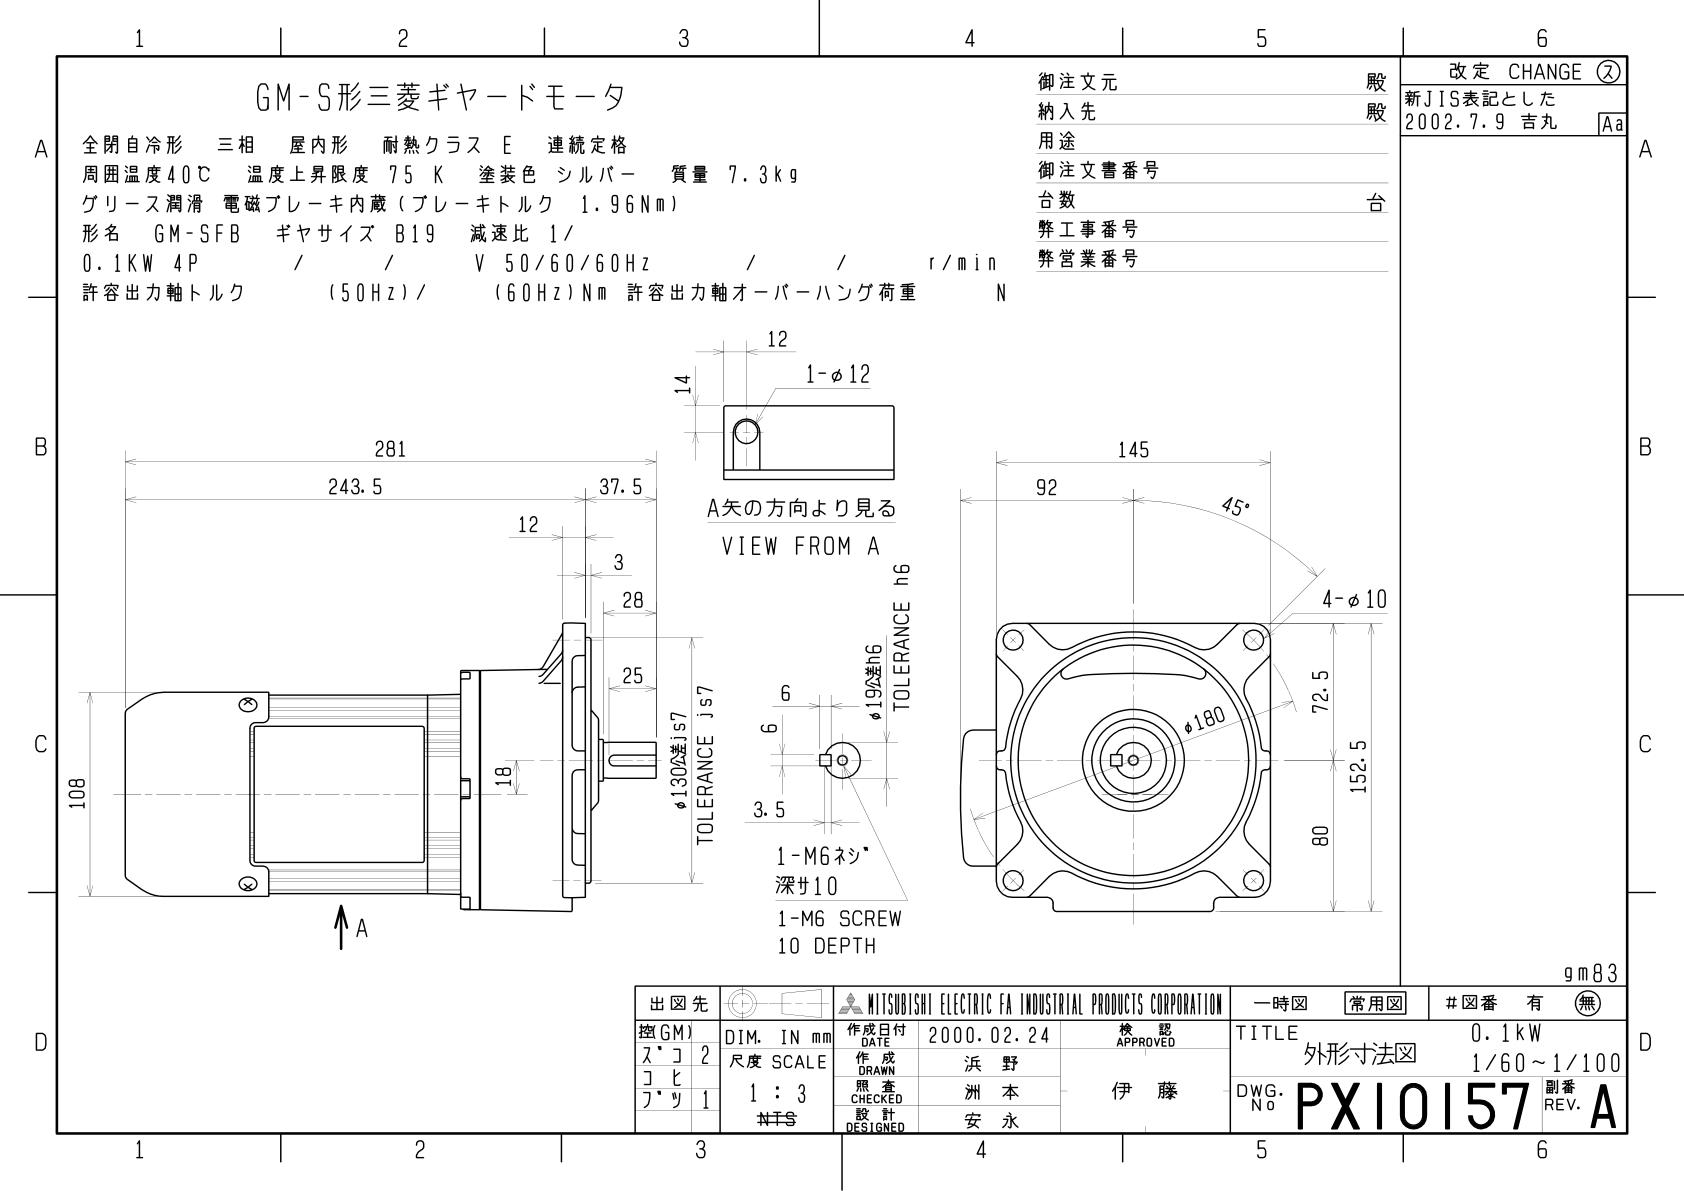GM_S_屋内＿三相_フランジ: (67, 322, 1393, 969)
